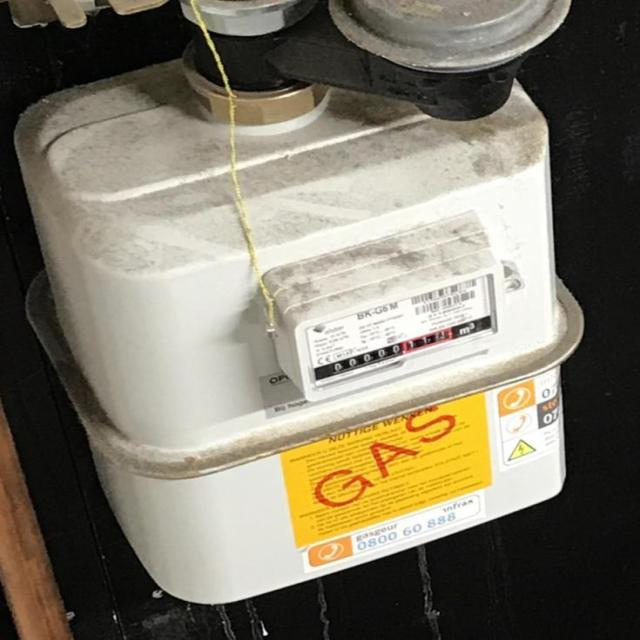gaz_meter: (294, 273, 498, 391)
indication: (317, 326, 458, 380)
